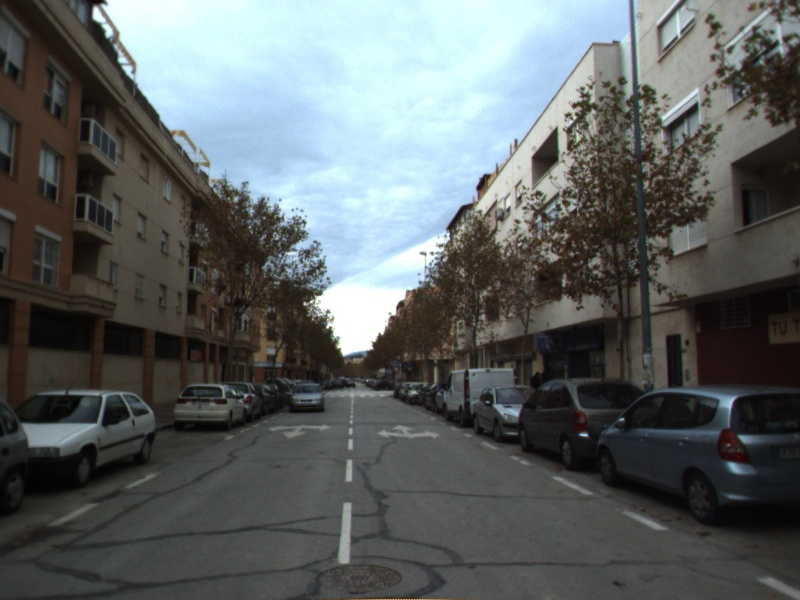STRAIGHT_LEFT_RIGHT: (374, 423, 442, 441)
